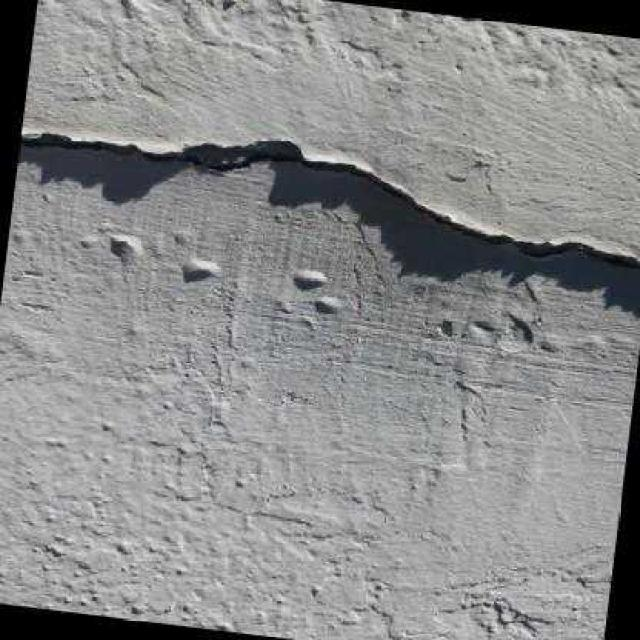D00: (24, 125, 640, 268)
